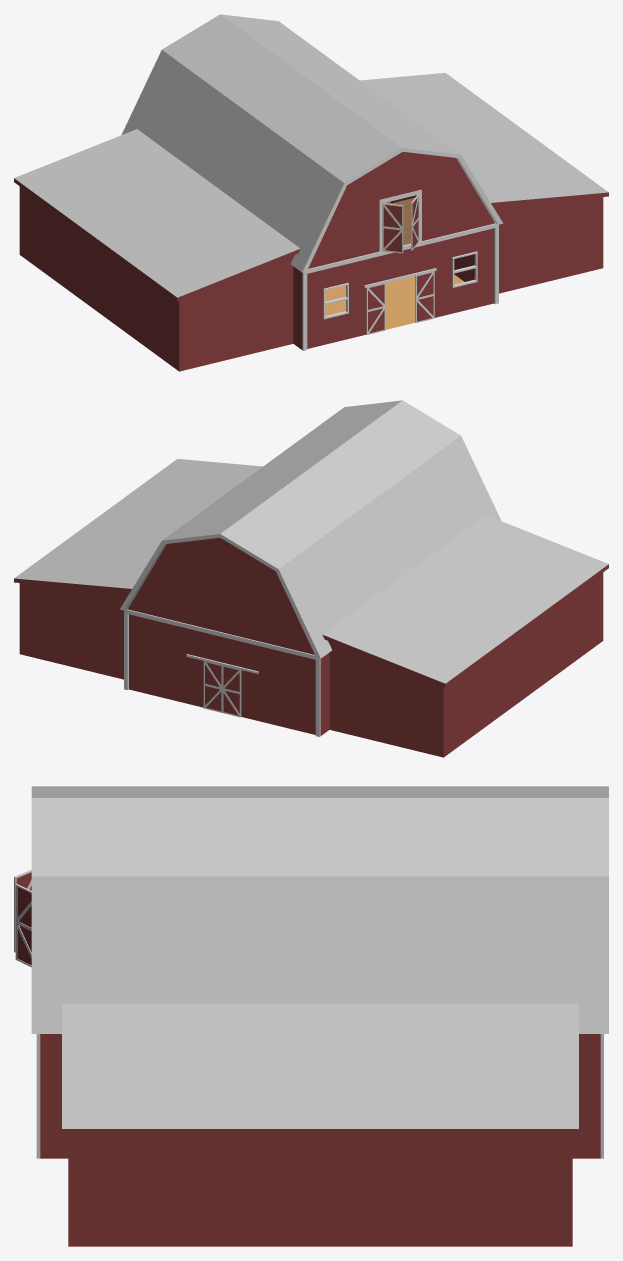
The model's file is Big Red Barn.fbx.
The picture shows the model from 3 angles, top to bottom: view 1: azimuth 30°, elevation 25°; view 2: azimuth 150°, elevation 25°; view 3: azimuth 270°, elevation 25°; orthographic projection. The views are drawn at different scales.
Visible parts, largest first — view 1: roof, side storage left, side storage right, building, barn floor, barn loft doors left, front doors right, front doors left, barn loft doorway; view 2: roof, side storage left, side storage right, building, rear doors right, rear doors left; view 3: roof, side storage right, building, barn loft doors right.
Part boxes in pixels (x1,y1,x2,y2): roof: (121,14,503,272); side storage left: (14,129,300,371); side storage right: (360,73,608,293); building: (293,195,498,350); barn floor: (325,274,463,329); barn loft doors left: (382,203,403,253); front doors right: (415,271,434,322); front doors left: (366,283,385,334); barn loft doorway: (379,189,421,251); roof: (119,400,501,658); side storage left: (322,515,608,757); side storage right: (14,459,262,679); building: (124,609,329,736); rear doors right: (222,665,241,717); rear doors left: (203,661,222,712); roof: (31,786,608,1033); side storage right: (62,1004,578,1246); building: (36,1034,603,1158); barn loft doors right: (15,884,31,967).
Size of what is drawn, in the model's own units: 562 by 225 by 425.
